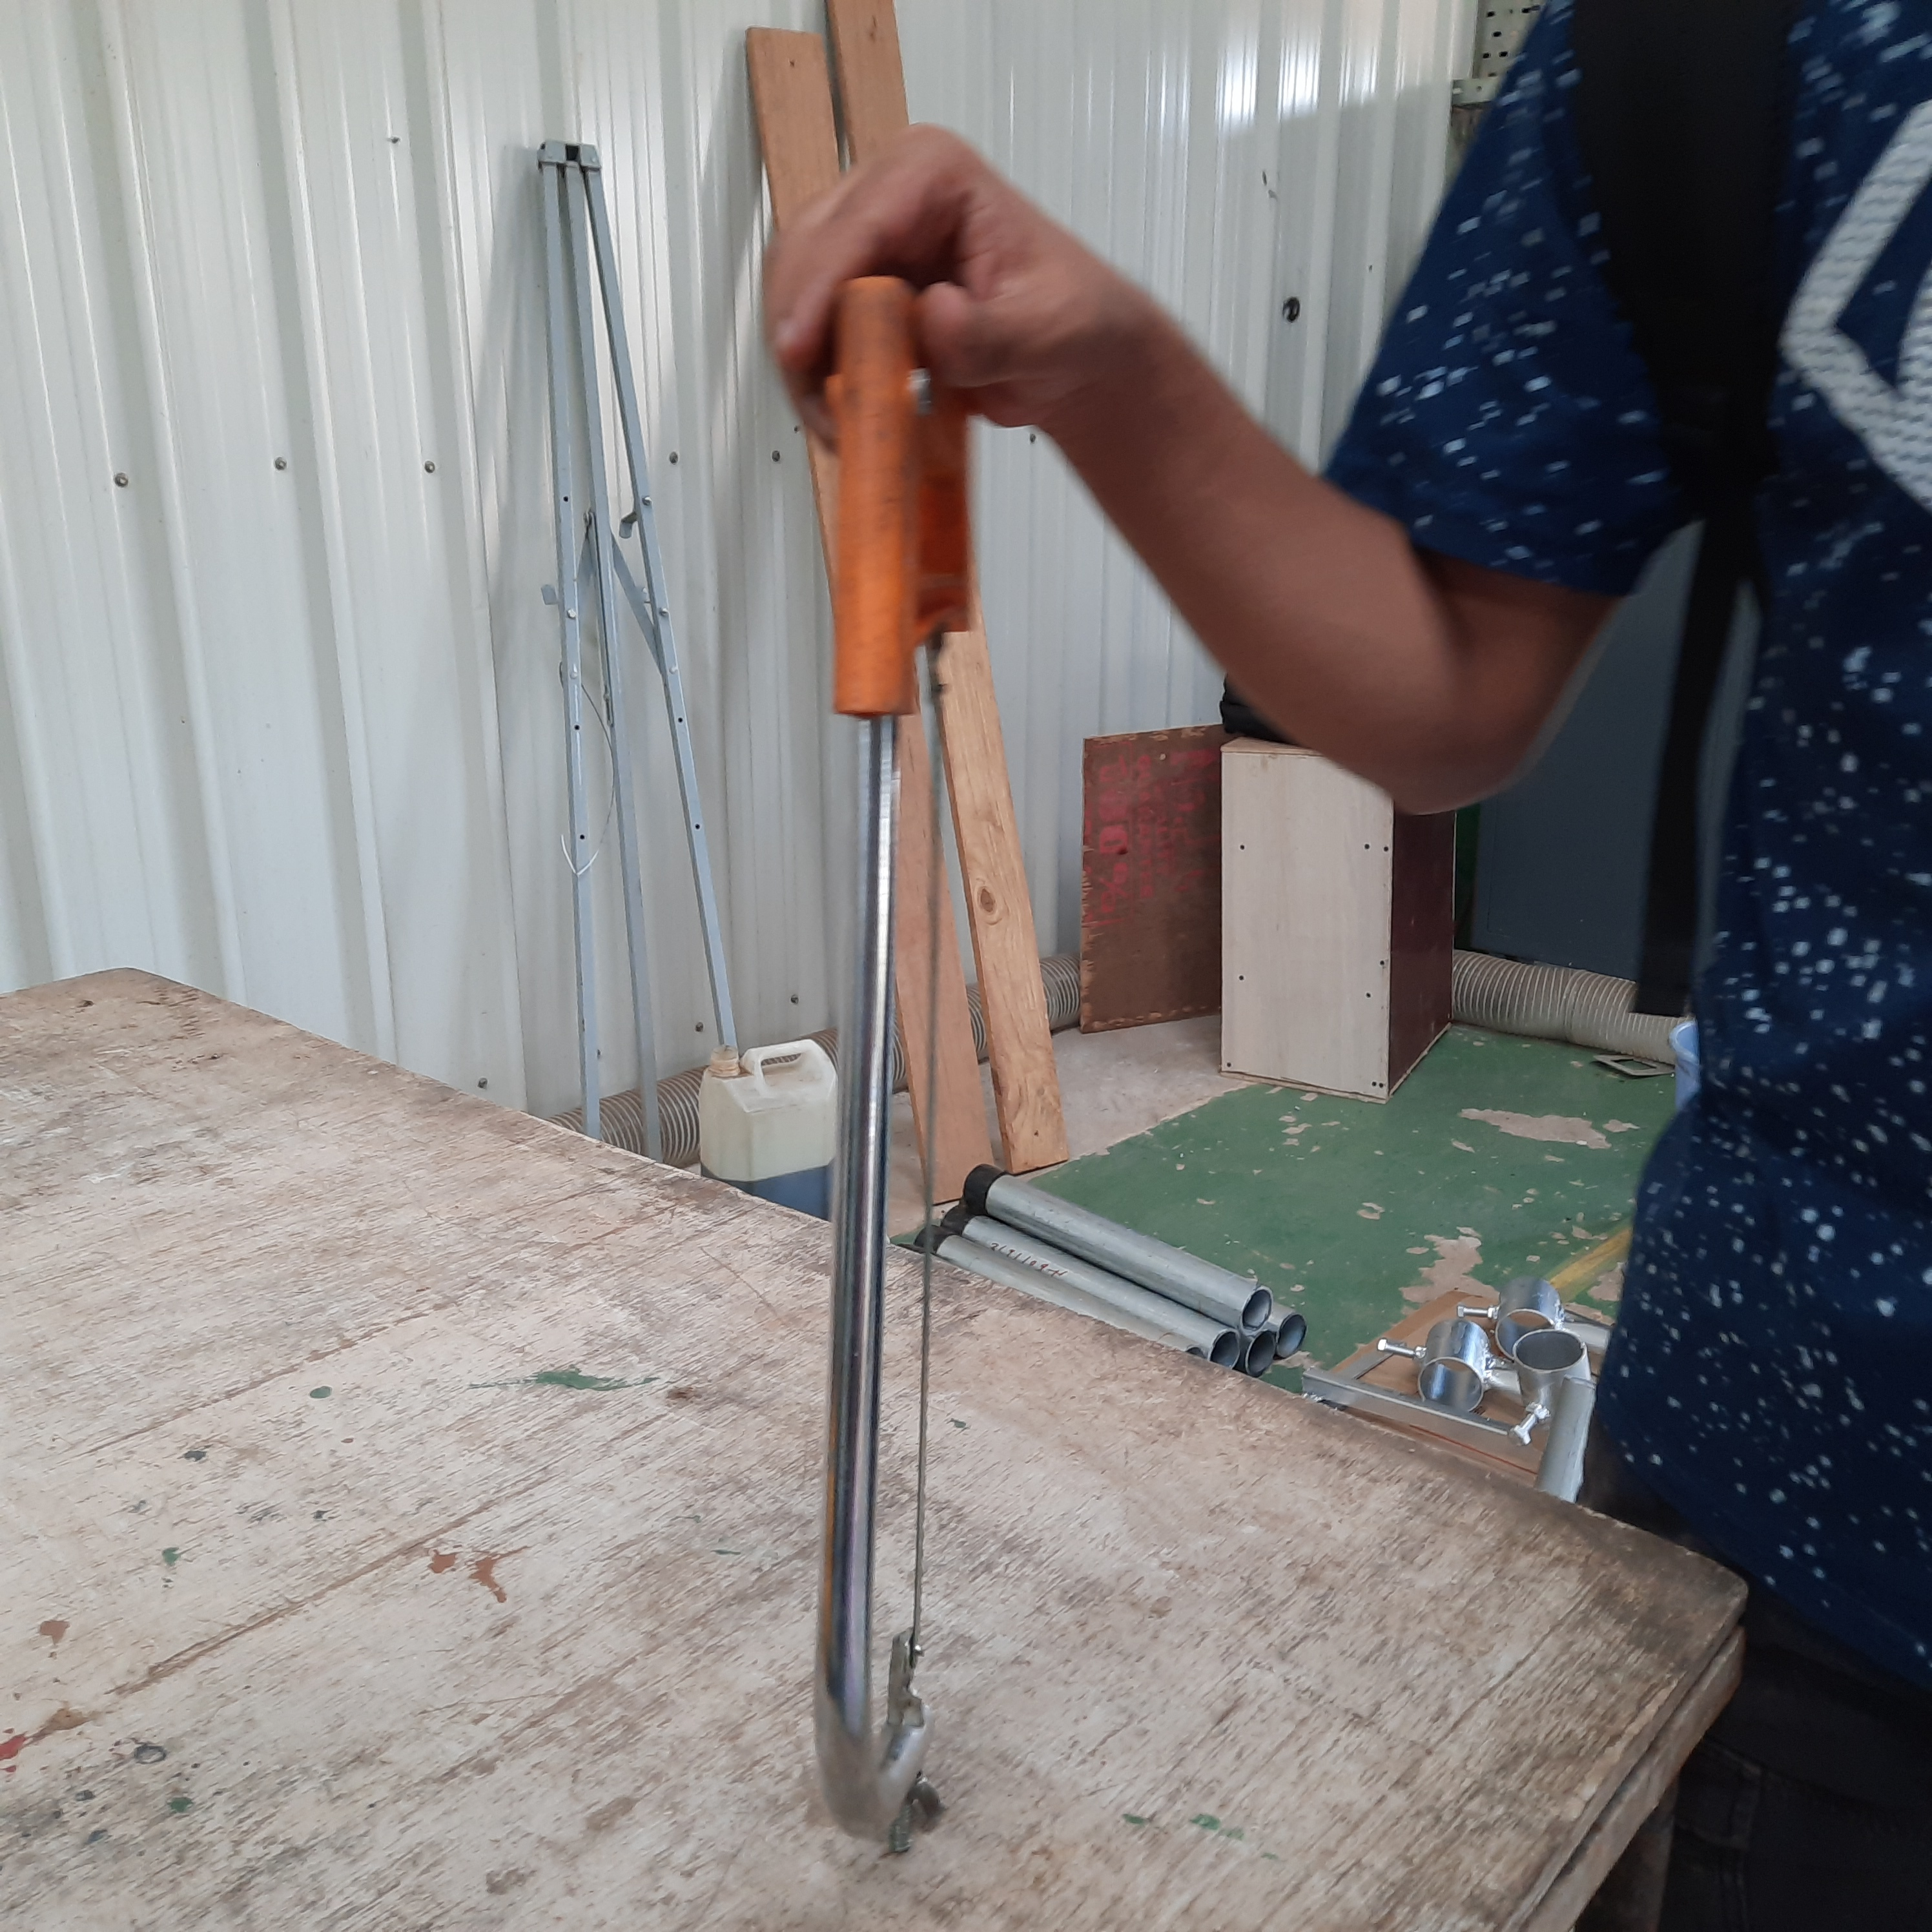Hexaframe: (713, 285, 1104, 1886)
